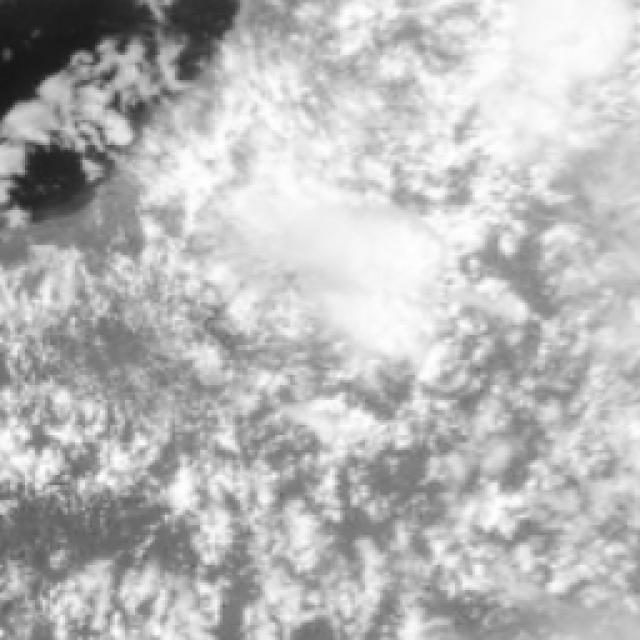CB: (219, 150, 468, 336), (423, 4, 640, 130)
